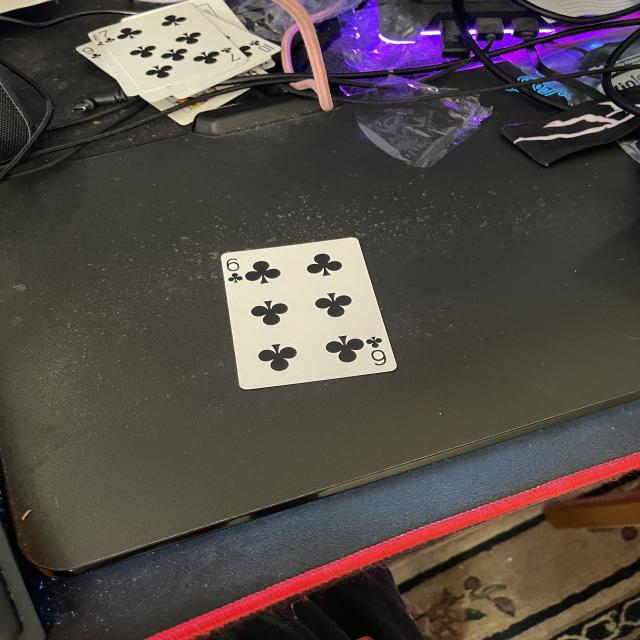6 of clubs: (220, 239, 398, 387)
7 of clubs: (101, 4, 245, 90)
